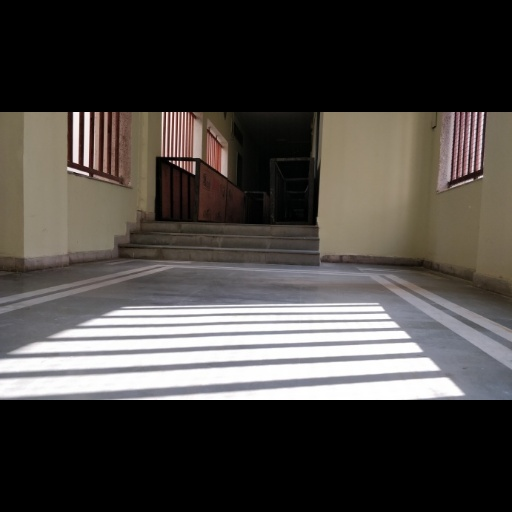Stairs: (119, 221, 320, 265)
